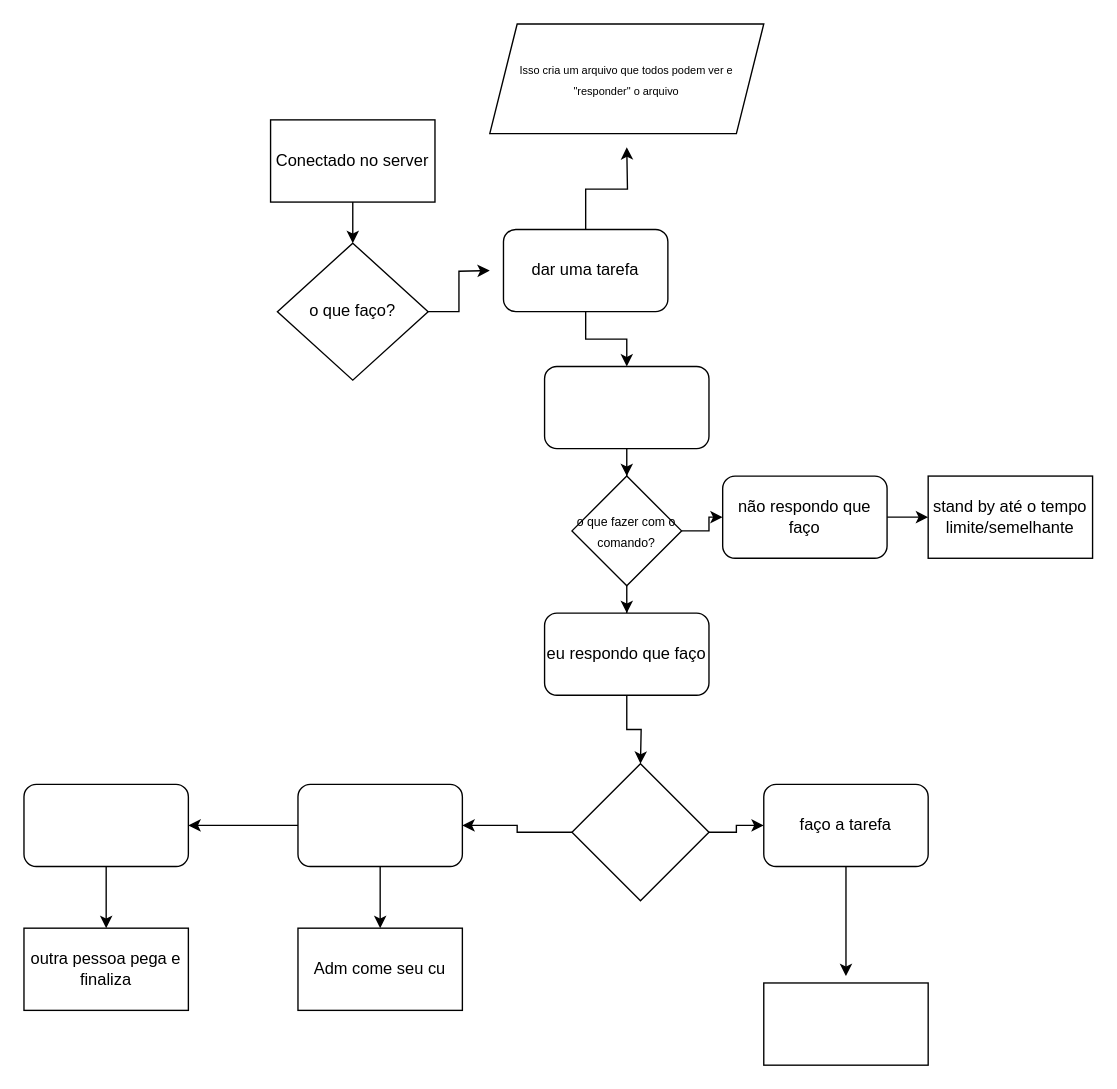
This 1117x1089 diagram has some shape labels left out. Each missing label, with the centre of its shape:
a tarefa fica pra mim, e ninguém pode enviar que pode fazer: (x=640, y=831)
aviso e repasso ela: (x=105, y=825)
envio status dela e é fechada: (x=845, y=1023)
não faço a tarefa: (x=379, y=825)
usuários recebem a tarefa: (x=626, y=407)
